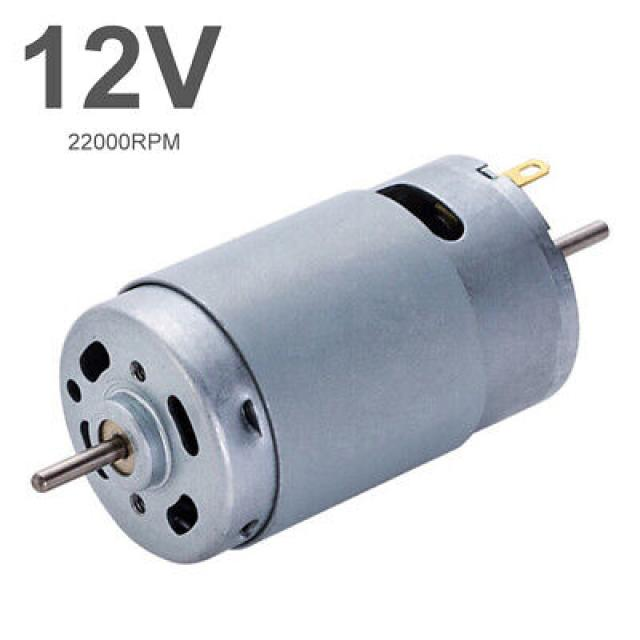motor: (42, 156, 595, 562)
